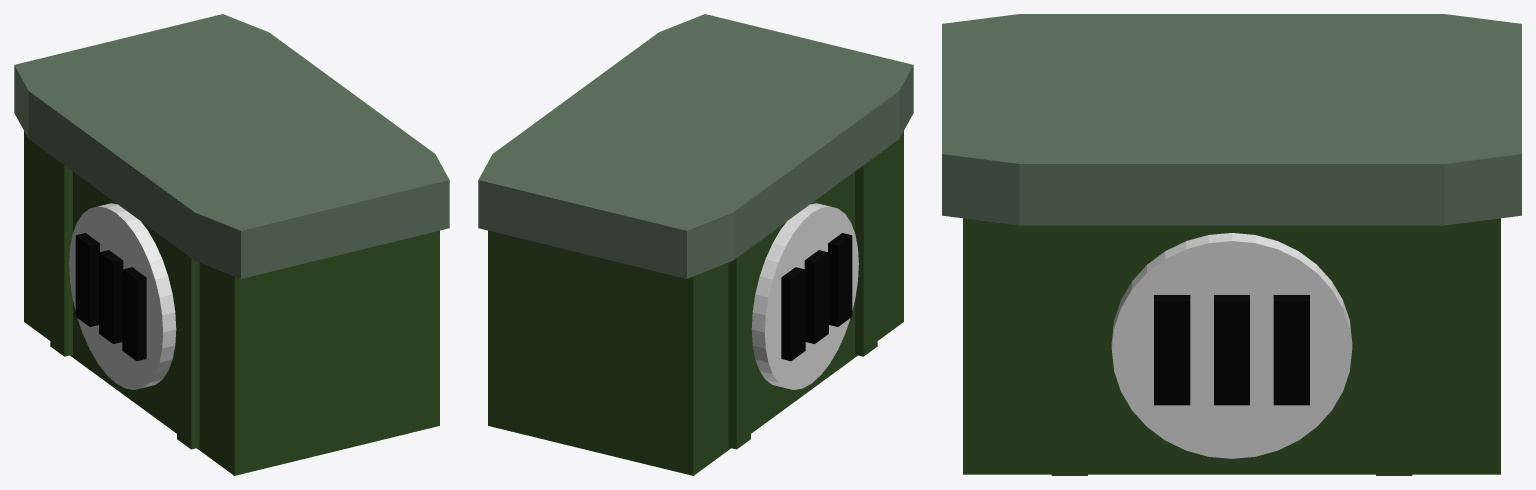
File: smallAmmo.fbx
3 views of the same model, side by side, from view 1: azimuth 30°, elevation 25°; view 2: azimuth 150°, elevation 25°; view 3: azimuth 270°, elevation 25° (orthographic). The views are drawn at different scales.
Visible parts, largest first — view 1: Cube; view 2: Cube; view 3: Cube.
Part boxes in pixels (<box>): Cube: <box>14,14,449,475</box>; Cube: <box>478,14,913,475</box>; Cube: <box>942,14,1521,475</box>.
Size of the model in its own units: 138 by 132 by 216.
